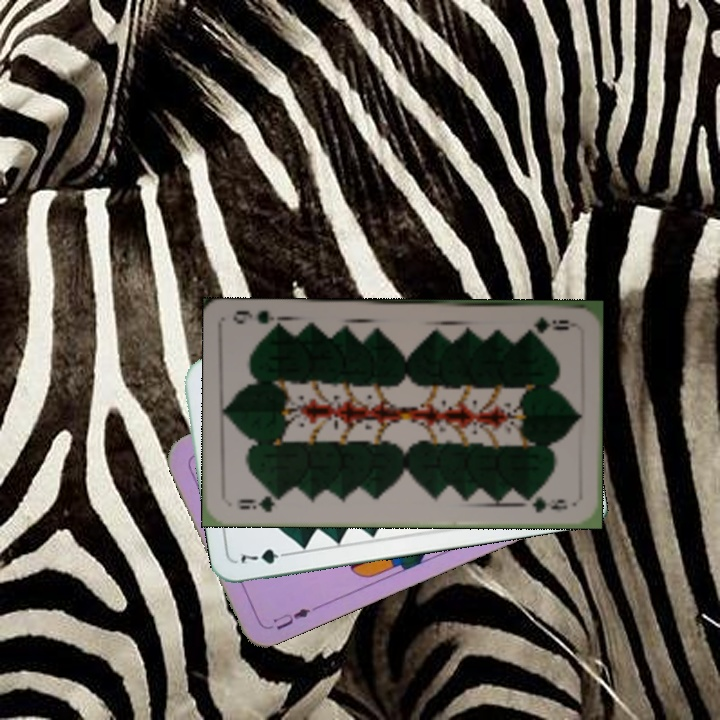EU: (263, 602, 320, 633)
G7: (235, 544, 294, 567)
G9: (235, 491, 286, 514), (530, 313, 572, 334)
